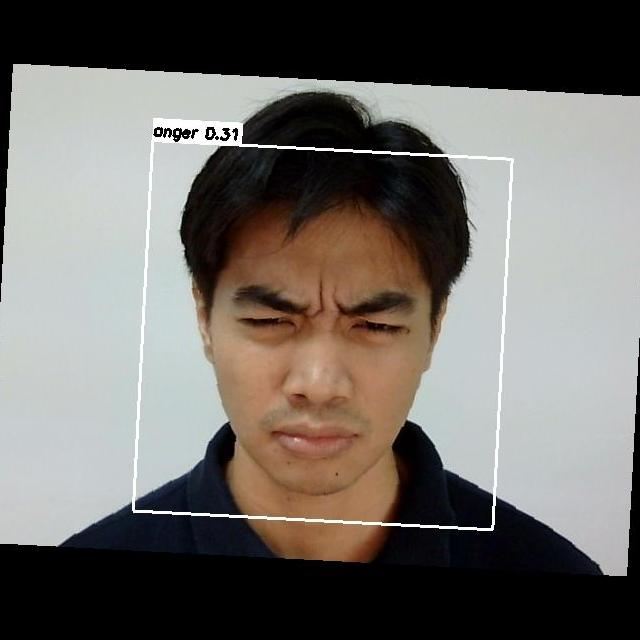Angry: (219, 266, 429, 470)
